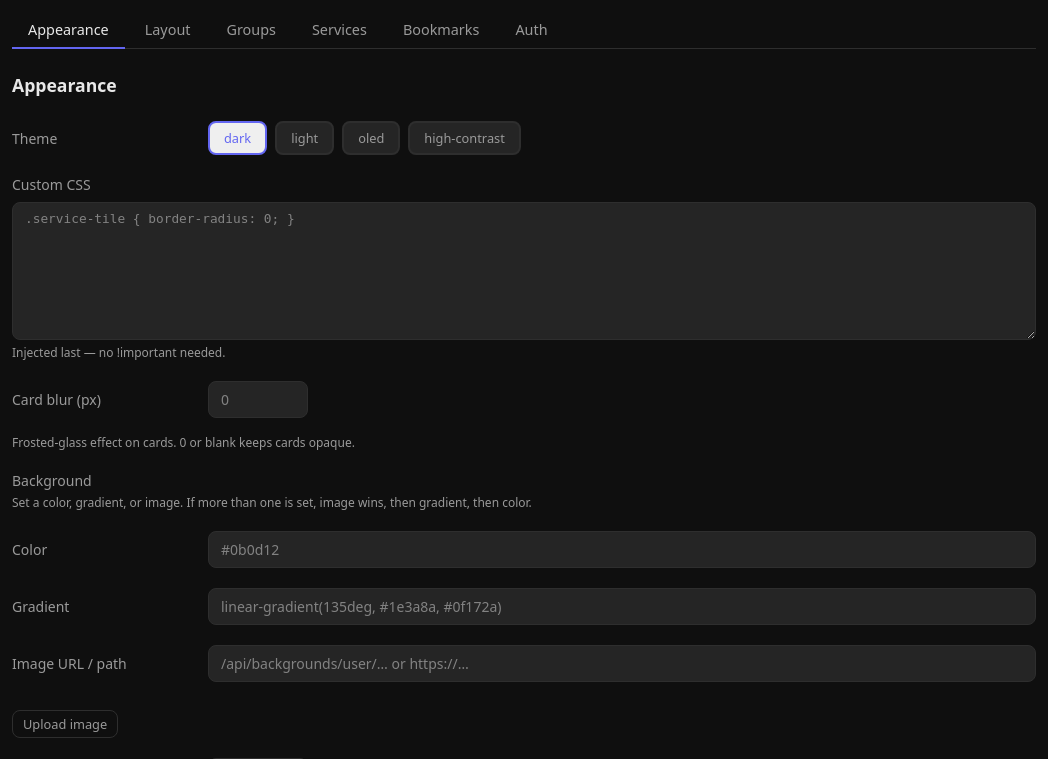
Test: SettingsPanel - tab switching › switches to the Layout section when the Layout tab is clicked
Click the button "Layout": coordinates (168, 30) [129,12,206,49]
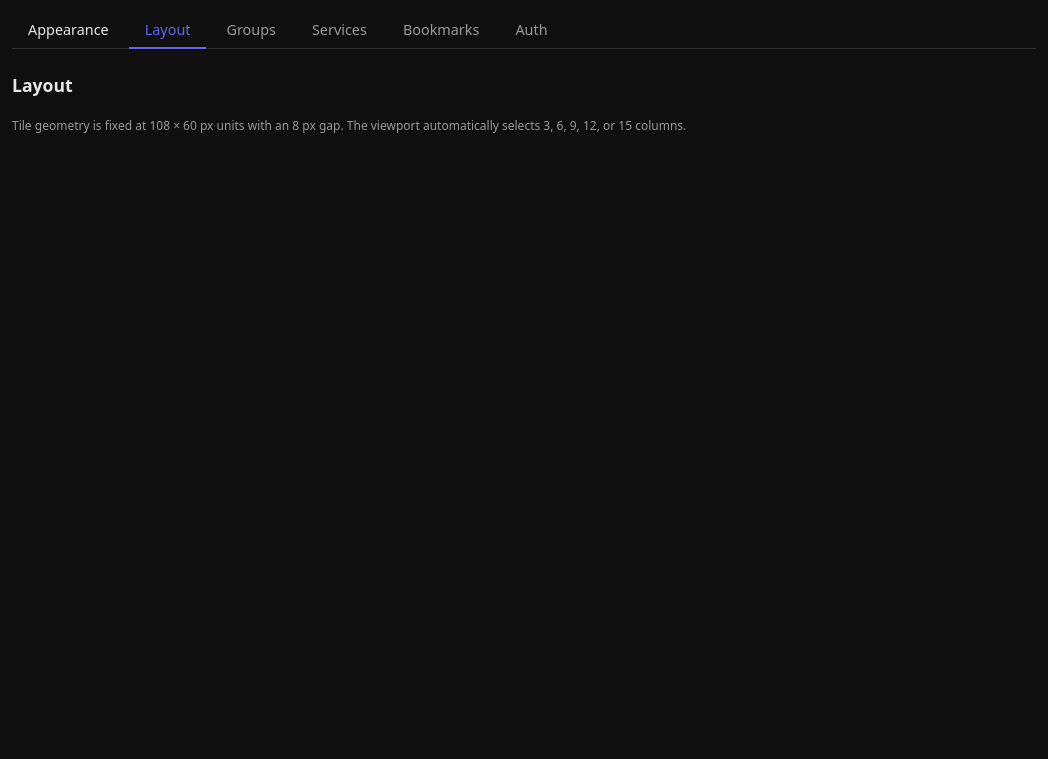
Expected: the heading "Layout" is shown, [12,73,73,97]
